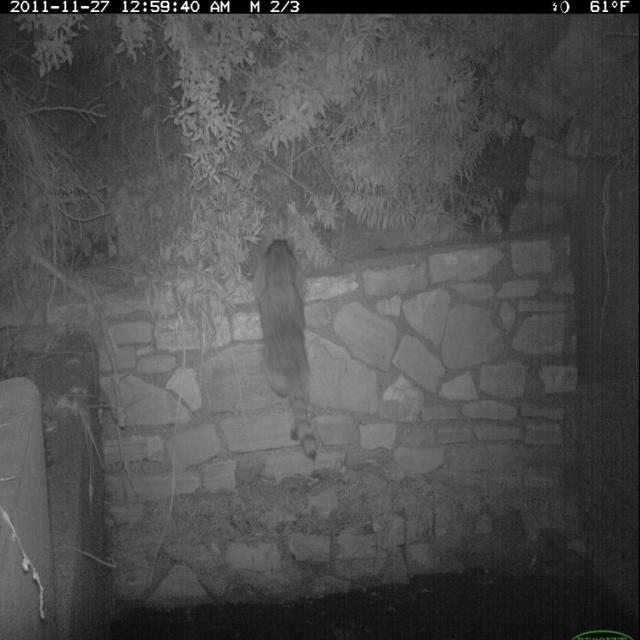raccoon: (248, 231, 330, 469)
